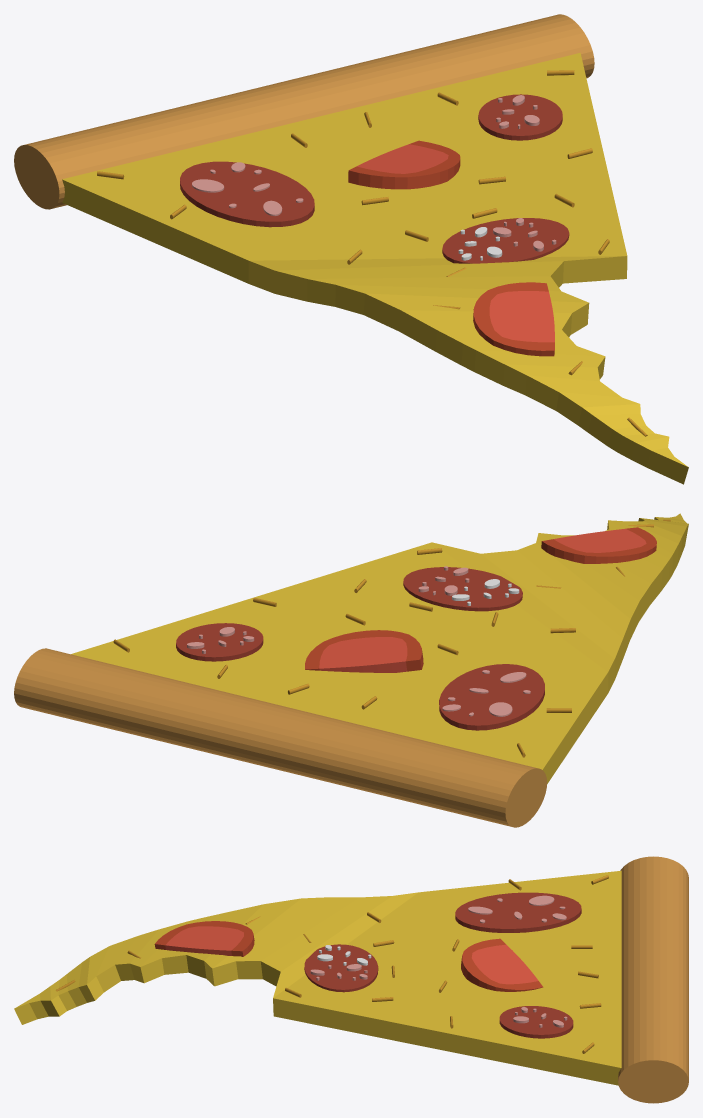
File: JunkFood_Pizza.fbx
The picture shows the model from 3 angles, top to bottom: view 1: azimuth 30°, elevation 25°; view 2: azimuth 150°, elevation 25°; view 3: azimuth 270°, elevation 25°; orthographic projection. The views are drawn at different scales.
Parts seen in each view (by area): view 1: Plane, Cylinder, Circle, Plane.001, Plane.002, Circle.002, Circle.001, Cylinder.006, Circle.009; view 2: Plane, Cylinder, Circle, Plane.002, Circle.002, Plane.001, Circle.001, Cylinder.006, Circle.009; view 3: Plane, Cylinder, Circle, Plane.002, Plane.001, Circle.002, Circle.001, Cylinder.006, Circle.009.
Boxes of the visible parts, x1,y1,x2,y2 form: Plane: (62,52,688,484); Cylinder: (14,14,594,209); Circle: (180,161,314,227); Plane.001: (473,282,554,356); Plane.002: (348,140,460,189); Circle.002: (442,218,569,263); Circle.001: (478,94,562,140); Cylinder.006: (97,70,647,436); Circle.009: (192,162,303,215); Plane: (71,513,688,784); Cylinder: (14,648,547,827); Circle: (439,664,544,730); Plane.002: (305,630,423,672); Circle.002: (403,567,522,611); Plane.001: (541,527,656,563); Circle.001: (176,623,263,661); Cylinder.006: (113,519,670,757); Circle.009: (442,670,530,716); Plane: (14,870,621,1085); Cylinder: (618,856,688,1103); Circle: (455,892,581,932); Plane.002: (461,938,543,991); Plane.001: (154,921,254,956); Circle.002: (304,944,378,992); Circle.001: (499,1006,573,1038); Cylinder.006: (56,875,608,1053); Circle.009: (468,895,566,923).
Bounding box in the file's own units: 166 × 29.21 × 232.
